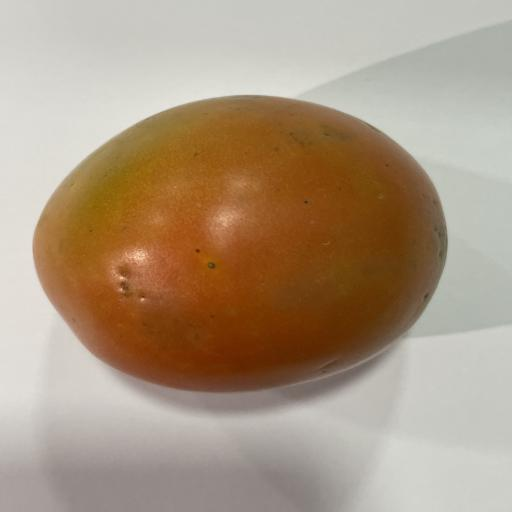unripe: (34, 95, 447, 391)
